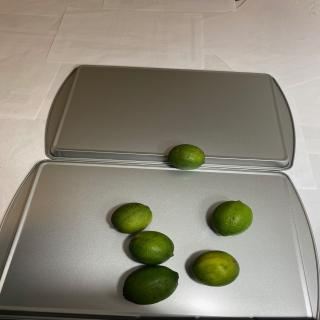Lemon: (122, 265, 179, 305), (191, 250, 240, 287), (128, 231, 174, 265), (211, 200, 253, 236), (110, 202, 152, 234), (168, 144, 205, 170)
